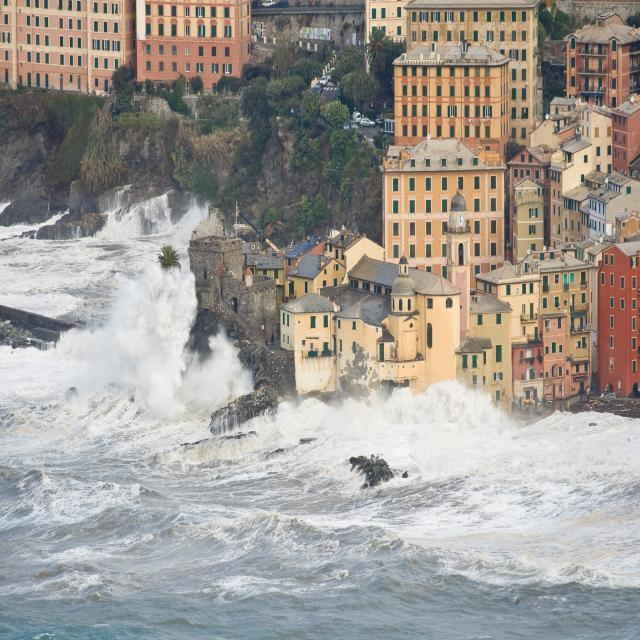flood: (0, 195, 640, 640)
house: (386, 148, 504, 264), (392, 48, 507, 144), (0, 4, 126, 76), (138, 4, 248, 74), (409, 2, 536, 51), (566, 22, 638, 98), (601, 242, 640, 364), (382, 264, 427, 356), (279, 289, 333, 361), (462, 328, 514, 394), (587, 176, 640, 238), (486, 269, 541, 324), (544, 273, 590, 330), (288, 249, 346, 289), (582, 101, 614, 173), (510, 151, 549, 193)
